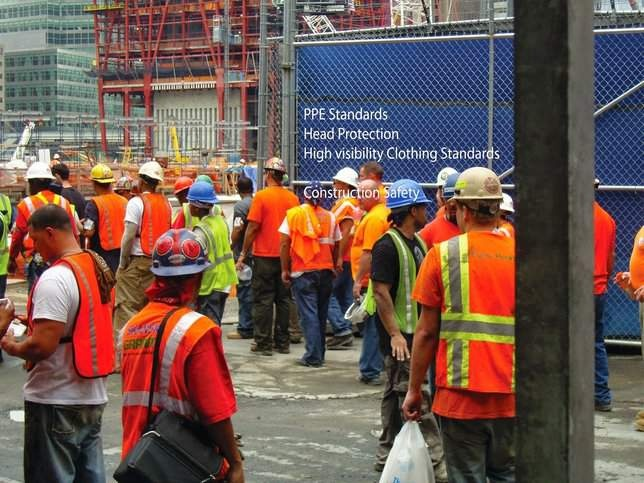blue: (146, 223, 208, 300), (386, 176, 430, 233), (184, 180, 216, 216)
none: (26, 204, 78, 262), (355, 178, 379, 212), (233, 174, 255, 201), (50, 161, 71, 189)
red: (261, 155, 287, 189), (171, 175, 193, 204)
white: (23, 160, 54, 194), (135, 159, 163, 196), (331, 165, 358, 197)
yellow: (452, 163, 506, 235), (87, 161, 115, 194)
